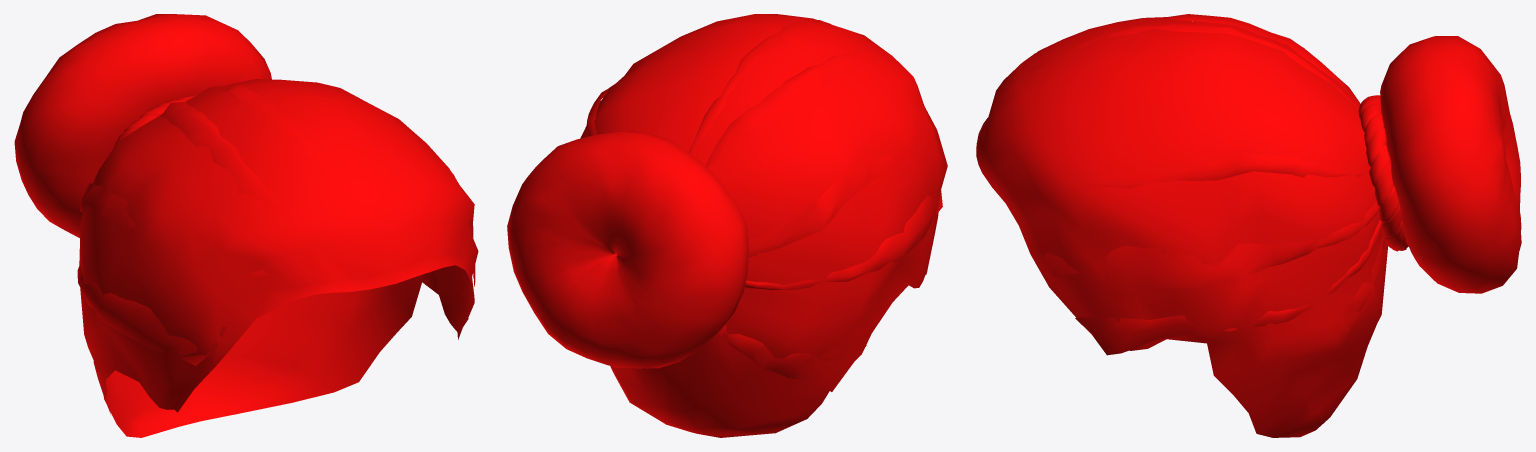
The model's file is rehmanpolanski_hair_bun_brown_F.glb.
The picture shows the model from 3 angles, left to right: view 1: azimuth 30°, elevation 25°; view 2: azimuth 150°, elevation 25°; view 3: azimuth 270°, elevation 25°; orthographic projection. The views are drawn at different scales.
Bounding box in the file's own units: 0.1771 × 0.1869 × 0.2453.
1 material, 1 textured.
